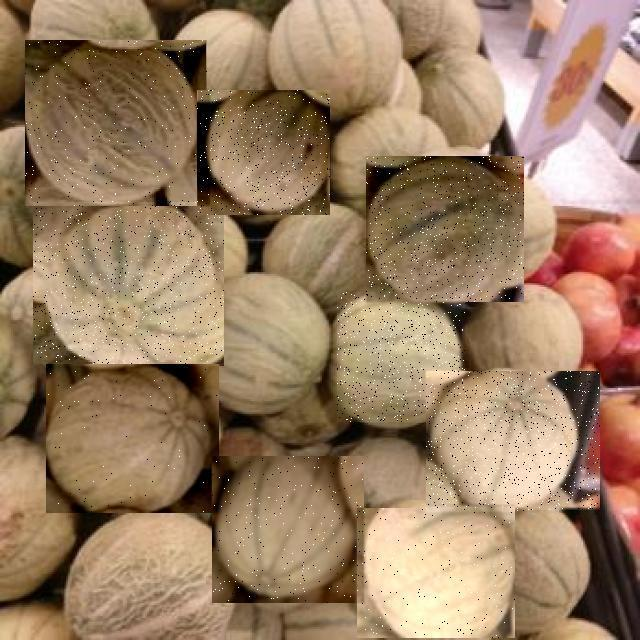Cantaloupe: (33, 202, 224, 366), (26, 40, 210, 206), (46, 364, 219, 513), (426, 372, 600, 512), (366, 156, 524, 302), (212, 456, 364, 603), (357, 508, 515, 638), (337, 292, 465, 422), (200, 90, 330, 215)
